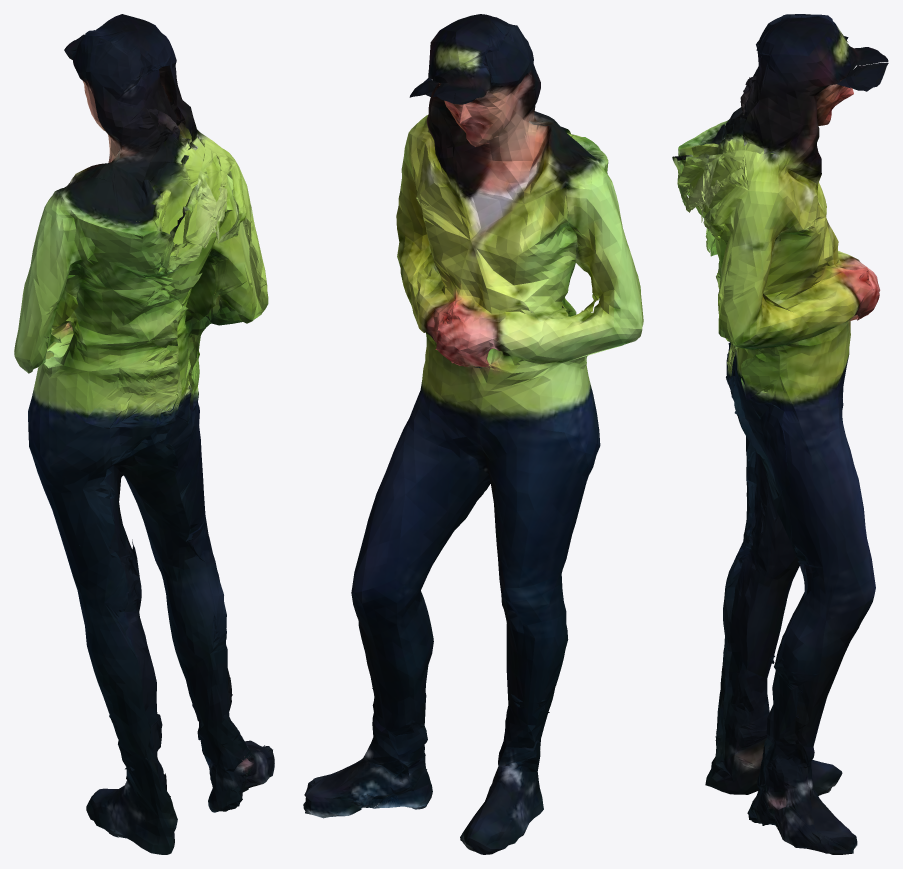
3 views of the same model, side by side, from view 1: azimuth 30°, elevation 25°; view 2: azimuth 150°, elevation 25°; view 3: azimuth 270°, elevation 25° (orthographic). The views are drawn at different scales.
Parts seen in each view (by area): view 1: dec_0001; view 2: dec_0001; view 3: dec_0001.
Part boxes in pixels (<box>): dec_0001: <box>14,14,274,854</box>; dec_0001: <box>303,14,643,854</box>; dec_0001: <box>672,14,888,854</box>.
Bounding box in the file's own units: 0.6792 × 1.77 × 0.4474.
1 material, 1 textured.
